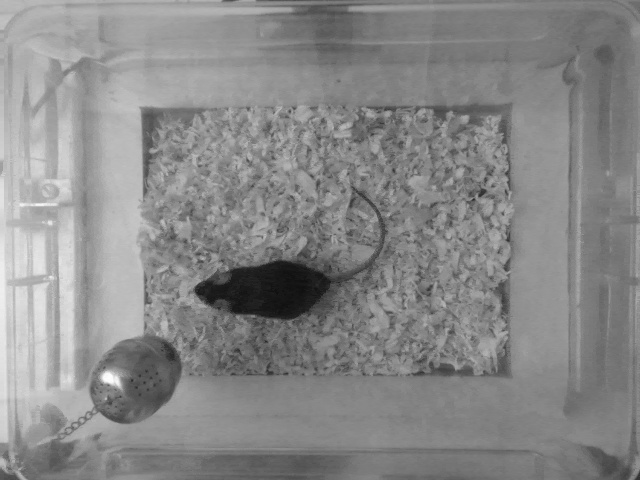mice: (193, 181, 387, 328)
